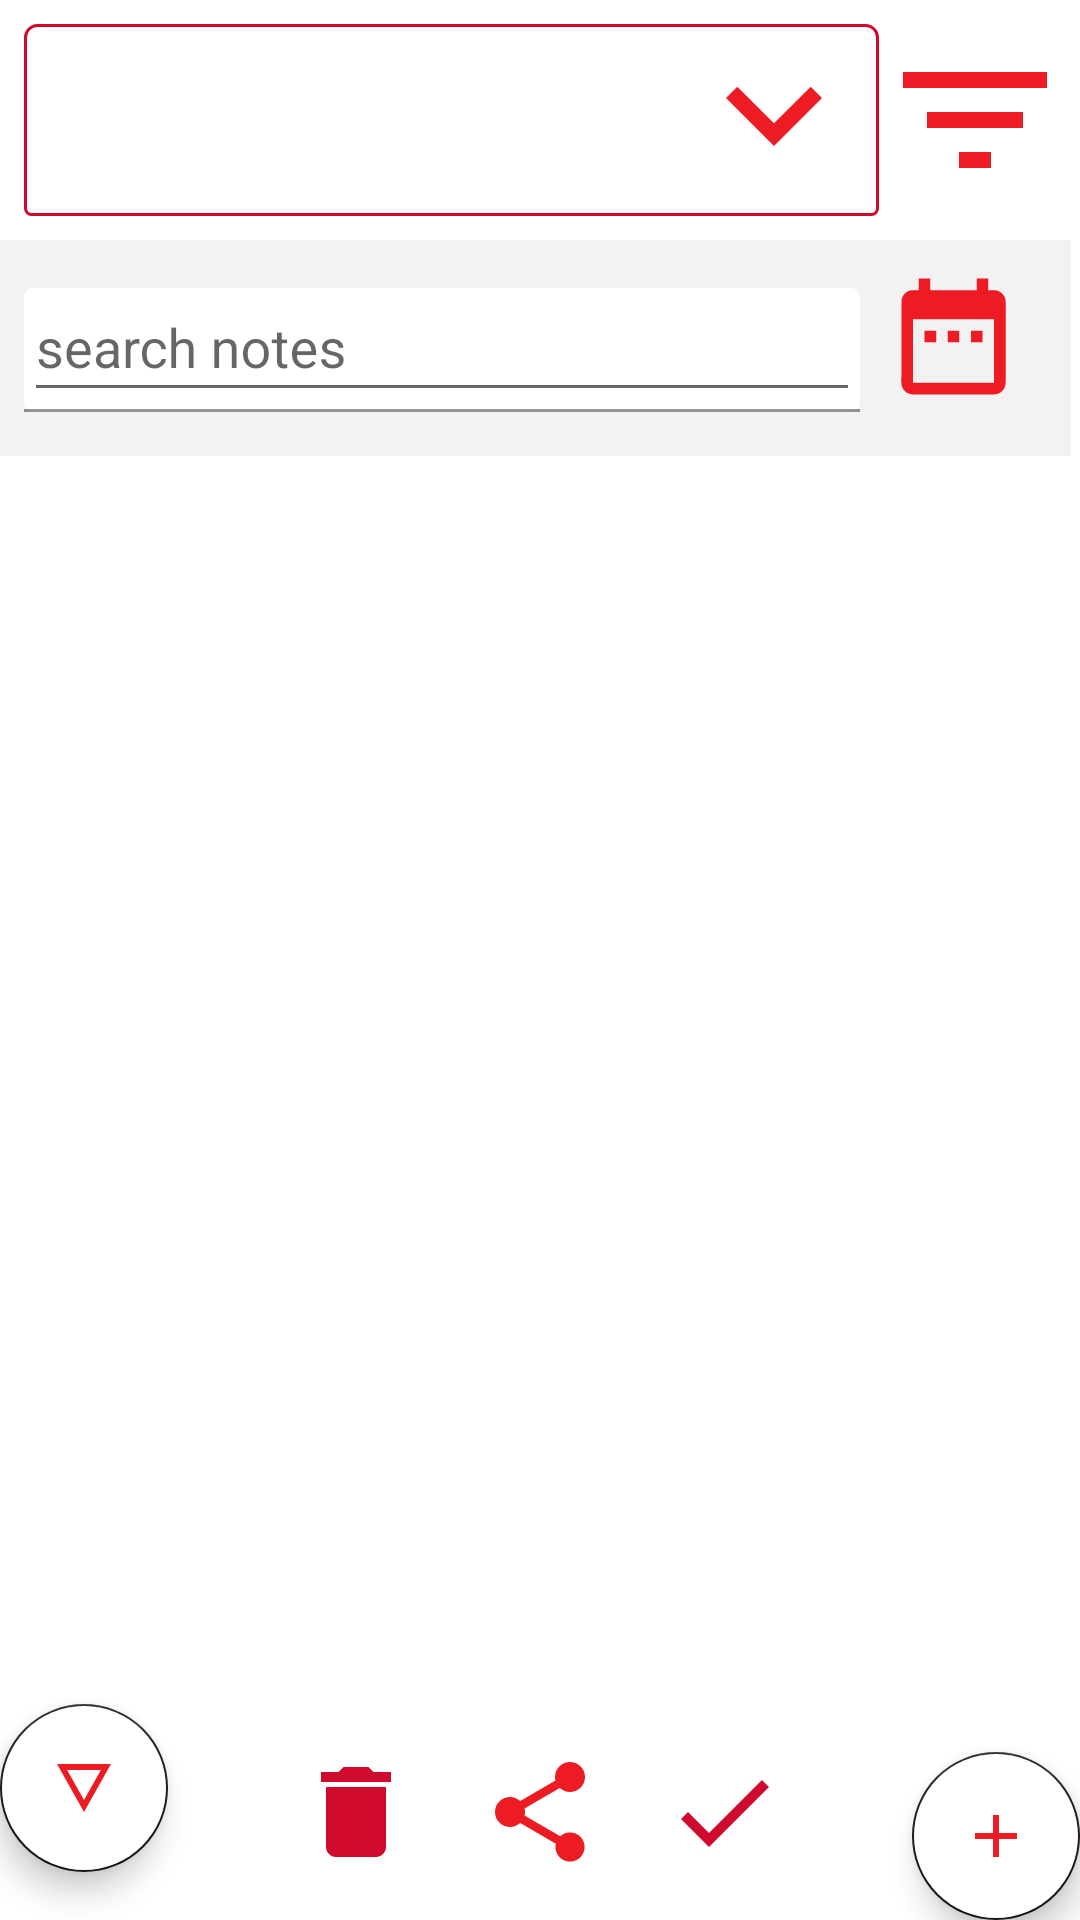

Icons on this 1080 x 1920 Android screen, each with its box as Rect(x1, y1, x2, y2):
add: Rect(912, 1752, 1080, 1920)
date range: Rect(901, 278, 1006, 395)
delete: Rect(321, 1767, 391, 1857)
details: Rect(0, 1704, 168, 1872)
done: Rect(681, 1780, 769, 1847)
filter list: Rect(903, 72, 1047, 168)
keyboard arrow down: Rect(726, 87, 822, 146)
share: Rect(495, 1762, 585, 1862)
